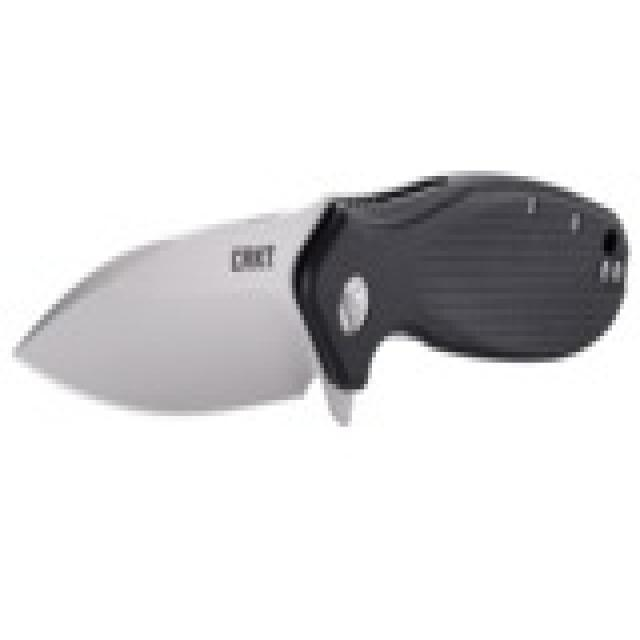Knife: (12, 171, 639, 428)
